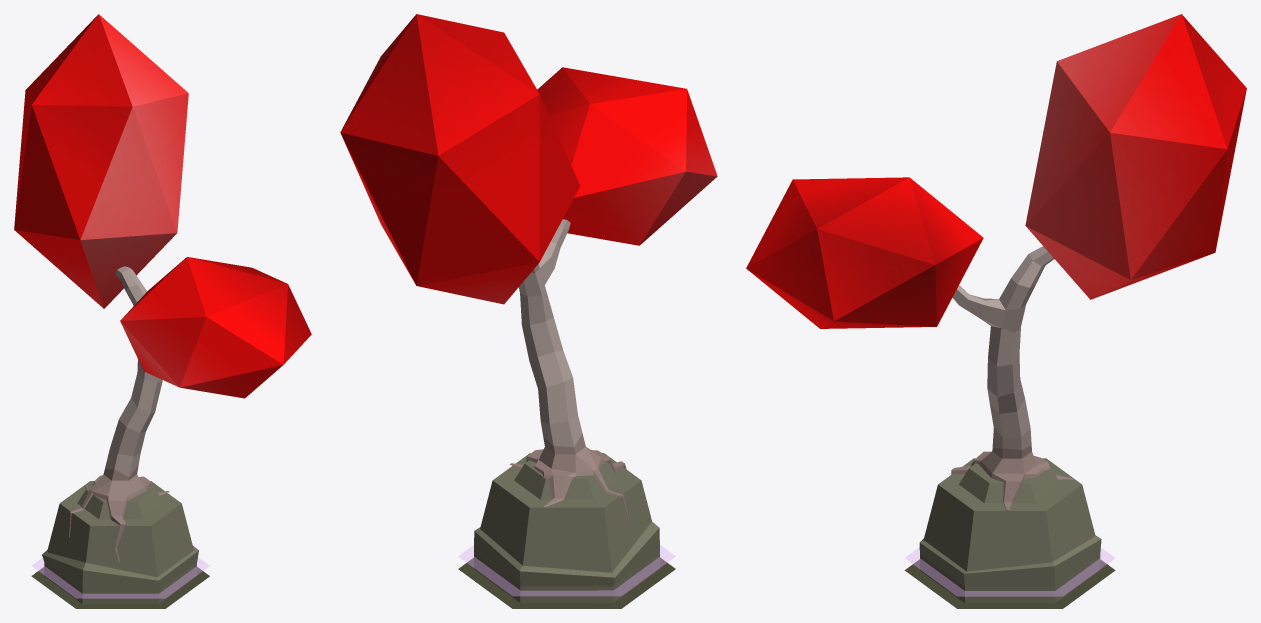
The model's file is MainPoint3.fbx.
3 renders of one model, left to right at view 1: azimuth 30°, elevation 25°; view 2: azimuth 150°, elevation 25°; view 3: azimuth 270°, elevation 25°, orthographic. The views are drawn at different scales.
Visible parts, largest first — view 1: mainPoint3; view 2: mainPoint3; view 3: mainPoint3.
Boxes of the visible parts, box(x1,y1,x2,y2) form: mainPoint3: box(14, 14, 311, 608); mainPoint3: box(340, 14, 717, 608); mainPoint3: box(746, 14, 1246, 608).
Bounding box in the file's own units: 2.77 × 5.55 × 7.16.
